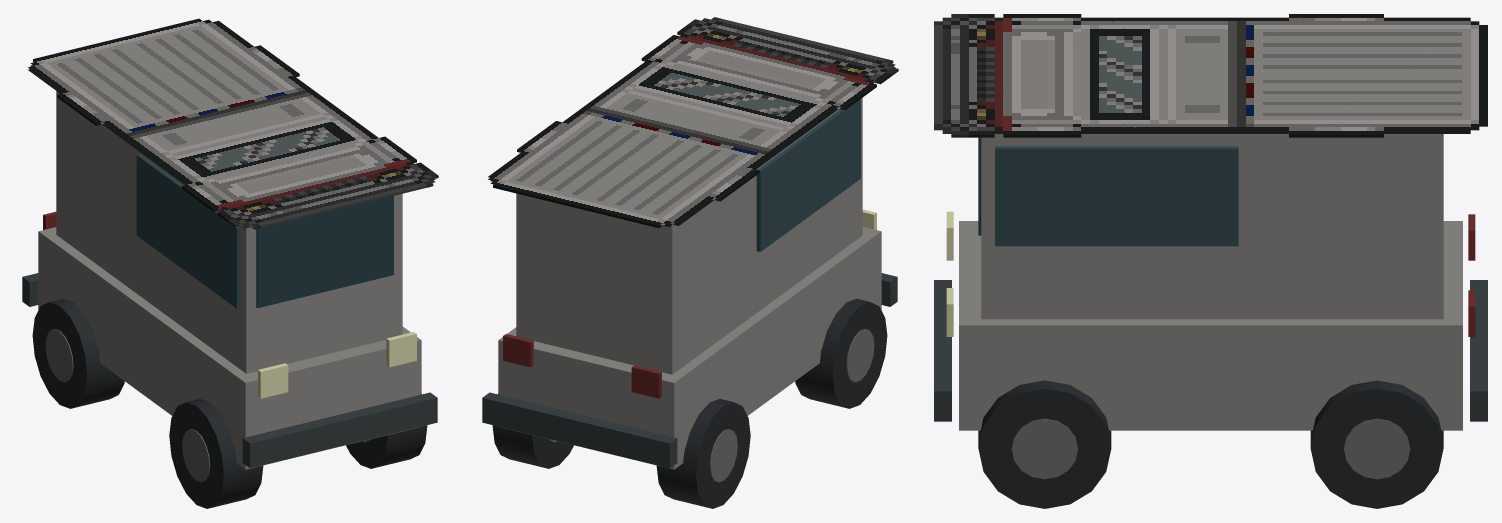
File: CMU3DReduxAU14VehicleCivEMSAmbulance.glb
3 renders of one model, left to right at view 1: azimuth 30°, elevation 25°; view 2: azimuth 150°, elevation 25°; view 3: azimuth 270°, elevation 25°, orthographic. The views are drawn at different scales.
Visible parts, largest first — view 1: source hull roof panel (×3), upper hull, closed lower chassis, road tire (×3), cab windscreen, cab side window, front bumper, wheel hub (×2), front light (×2), rear bumper; view 2: source hull roof panel (×3), upper hull, closed lower chassis, road tire (×3), cab side window, rear bumper, wheel hub (×2), rear marker (×2), front bumper; view 3: source hull roof panel (×3), upper hull, closed lower chassis, cab side window, road tire (×2), wheel hub (×2), rear bumper, front bumper.
Boxes of the visible parts, left/top/right/bottom form: source hull roof panel (×3): left=28, top=18, right=438, bottom=229; upper hull: left=56, top=91, right=402, bottom=373; closed lower chassis: left=38, top=227, right=421, bottom=469; road tire (×3): left=32, top=298, right=427, bottom=508; cab windscreen: left=256, top=196, right=393, bottom=308; cab side window: left=136, top=154, right=240, bottom=308; front bumper: left=242, top=392, right=437, bottom=468; wheel hub (×2): left=45, top=329, right=210, bottom=482; front light (×2): left=258, top=332, right=416, bottom=398; rear bumper: left=22, top=273, right=38, bottom=306; source hull roof panel (×3): left=488, top=17, right=898, bottom=228; upper hull: left=516, top=98, right=862, bottom=374; closed lower chassis: left=498, top=227, right=881, bottom=469; road tire (×3): left=492, top=298, right=887, bottom=508; cab side window: left=756, top=99, right=860, bottom=251; rear bumper: left=482, top=392, right=677, bottom=468; wheel hub (×2): left=709, top=329, right=874, bottom=482; rear marker (×2): left=503, top=334, right=661, bottom=398; front bumper: left=881, top=273, right=897, bottom=306; source hull roof panel (×3): left=934, top=14, right=1487, bottom=137; upper hull: left=981, top=134, right=1443, bottom=319; closed lower chassis: left=959, top=221, right=1462, bottom=430; cab side window: left=995, top=146, right=1238, bottom=246; road tire (×2): left=978, top=380, right=1443, bottom=508; wheel hub (×2): left=1011, top=418, right=1410, bottom=479; rear bumper: left=1470, top=280, right=1487, bottom=421; front bumper: left=934, top=280, right=951, bottom=421.
Size of the model in its own units: 1.04 by 1.49 by 2.
Materials: 11 (3 with a texture image).
